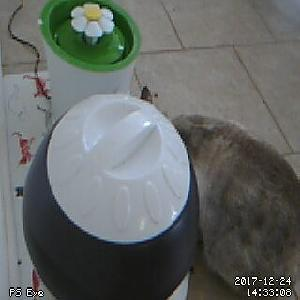cat: (138, 84, 300, 300)
fountain: (38, 1, 141, 72)
